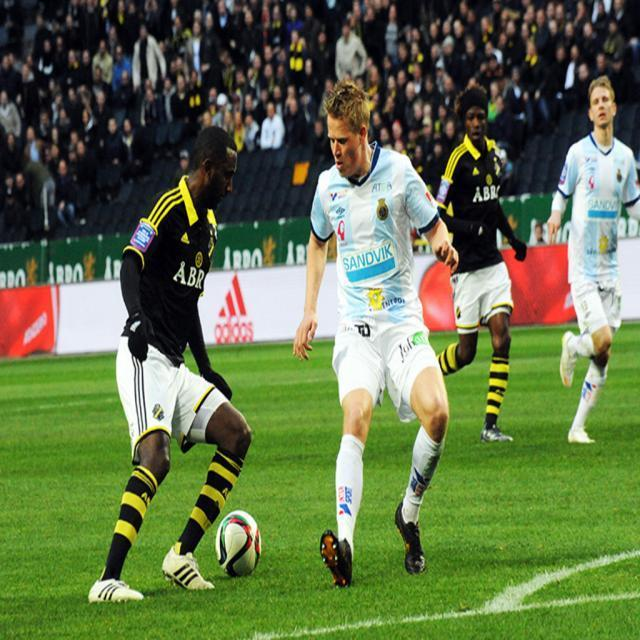football: (199, 506, 272, 583)
